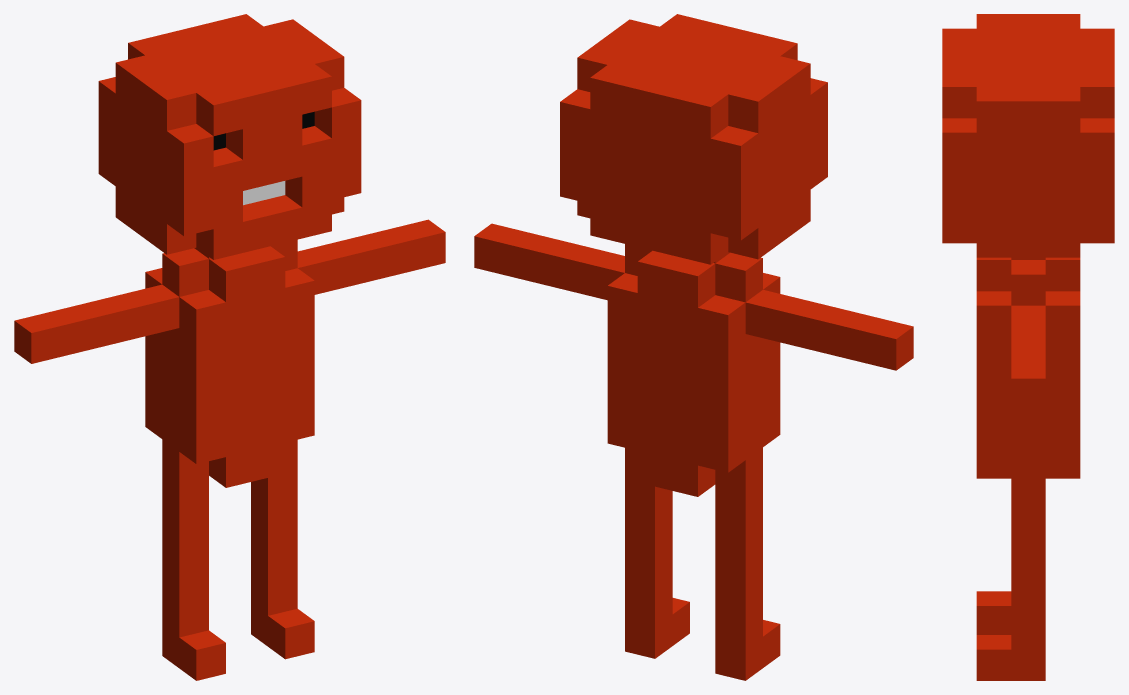
File: Template.fbx
3 views of the same model, side by side, from view 1: azimuth 30°, elevation 25°; view 2: azimuth 150°, elevation 25°; view 3: azimuth 270°, elevation 25° (orthographic).
Parts seen in each view (by area): view 1: Matrix_part, Matrix_part_1, Matrix_part_5, Matrix_part_3, Matrix_part_4, Matrix_part_2; view 2: Matrix_part, Matrix_part_1, Matrix_part_5, Matrix_part_3, Matrix_part_4, Matrix_part_2; view 3: Matrix_part, Matrix_part_1, Matrix_part_3, Matrix_part_2, Matrix_part_5.
Part boxes in pixels (bbox=[...]): Matrix_part: bbox=[98, 14, 361, 259]; Matrix_part_1: bbox=[145, 239, 314, 487]; Matrix_part_5: bbox=[162, 470, 225, 680]; Matrix_part_3: bbox=[251, 454, 314, 659]; Matrix_part_4: bbox=[14, 284, 179, 363]; Matrix_part_2: bbox=[297, 219, 445, 294]; Matrix_part: bbox=[560, 14, 827, 264]; Matrix_part_1: bbox=[607, 244, 780, 496]; Matrix_part_5: bbox=[715, 479, 780, 680]; Matrix_part_3: bbox=[625, 462, 689, 658]; Matrix_part_4: bbox=[745, 290, 913, 370]; Matrix_part_2: bbox=[474, 223, 624, 300]; Matrix_part: bbox=[942, 14, 1114, 259]; Matrix_part_1: bbox=[976, 257, 1080, 493]; Matrix_part_3: bbox=[976, 493, 1045, 680]; Matrix_part_2: bbox=[1011, 305, 1045, 409]; Matrix_part_5: bbox=[976, 591, 1011, 634].
Size of the model in its own units: 14 by 19 by 5.
1 material, 1 textured.
